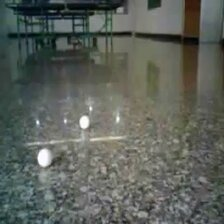w: (36, 147, 52, 169), (78, 115, 90, 130)
